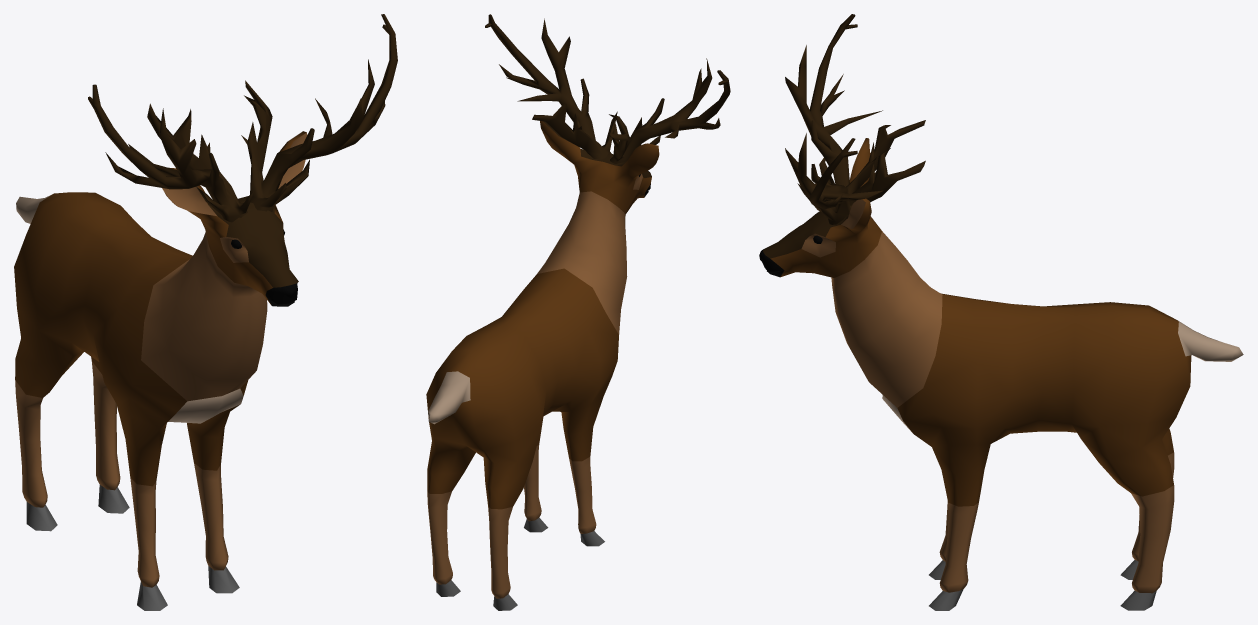
File: DeerMat.fbx
3 views of the same model, side by side, from view 1: azimuth 30°, elevation 25°; view 2: azimuth 150°, elevation 25°; view 3: azimuth 270°, elevation 25° (orthographic). The views are drawn at different scales.
Parts seen in each view (by area): view 1: Deer_001; view 2: Deer_001; view 3: Deer_001.
Part boxes in pixels (<box>): Deer_001: <box>14,14,397,610</box>; Deer_001: <box>426,14,730,610</box>; Deer_001: <box>759,14,1243,610</box>.
Bounding box in the file's own units: 1.06 × 1.97 × 1.68.
